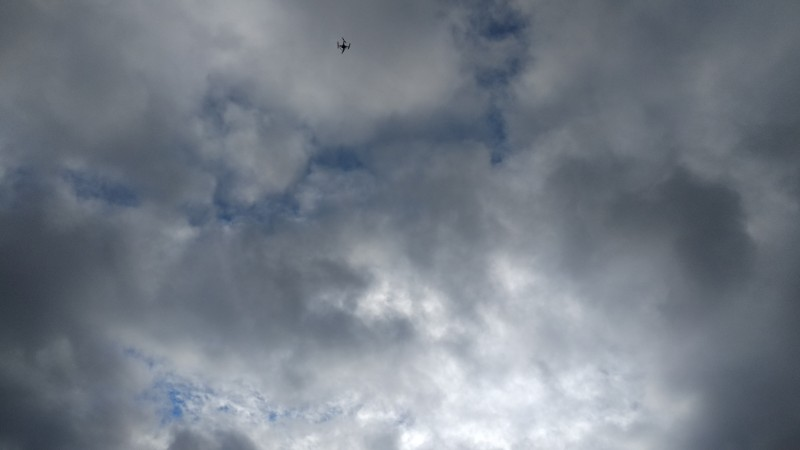drone: (335, 37, 352, 53)
